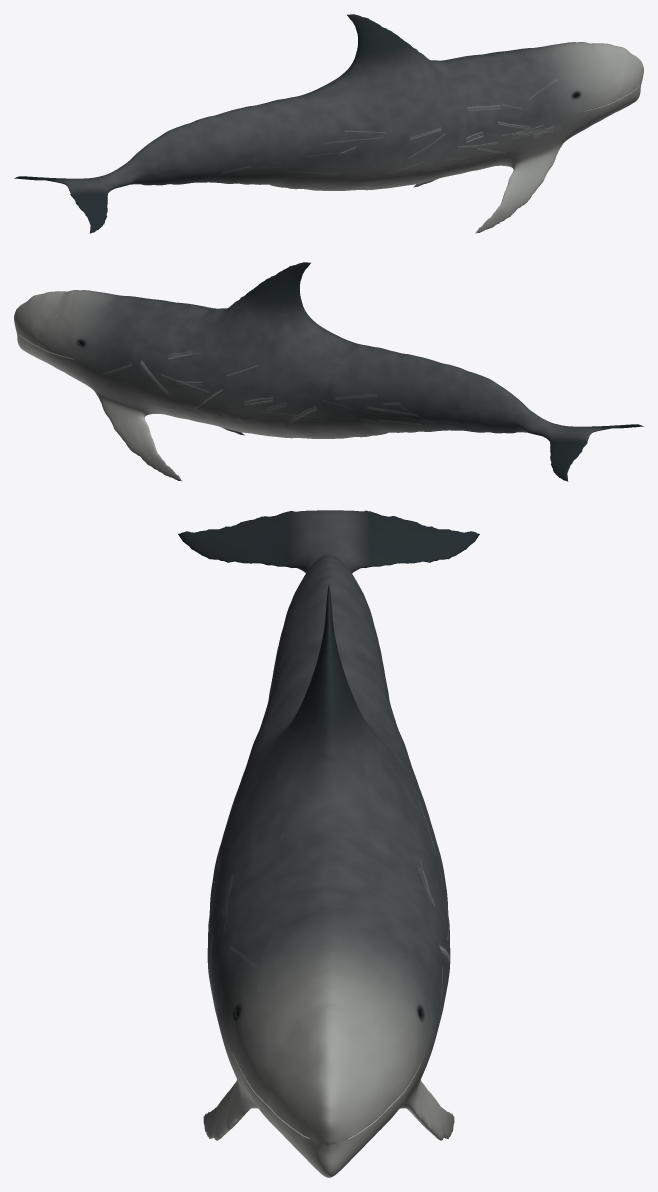
Rendered from model-cetacean-grampus-griseus-v0679.glb.
3 renders of one model, top to bottom at view 1: azimuth 30°, elevation 25°; view 2: azimuth 150°, elevation 25°; view 3: azimuth 270°, elevation 25°, orthographic. The views are drawn at different scales.
Visible parts, largest first — view 1: Risso — editable source-derived skin; view 2: Risso — editable source-derived skin; view 3: Risso — editable source-derived skin.
Part boxes in pixels (box(x1,y1,x2,y2)): Risso — editable source-derived skin: box(14, 14, 643, 233); Risso — editable source-derived skin: box(14, 262, 643, 481); Risso — editable source-derived skin: box(178, 510, 479, 1177).
Bounding box in the file's own units: 3.79 × 1.35 × 0.838.
2 materials, 1 textured.
